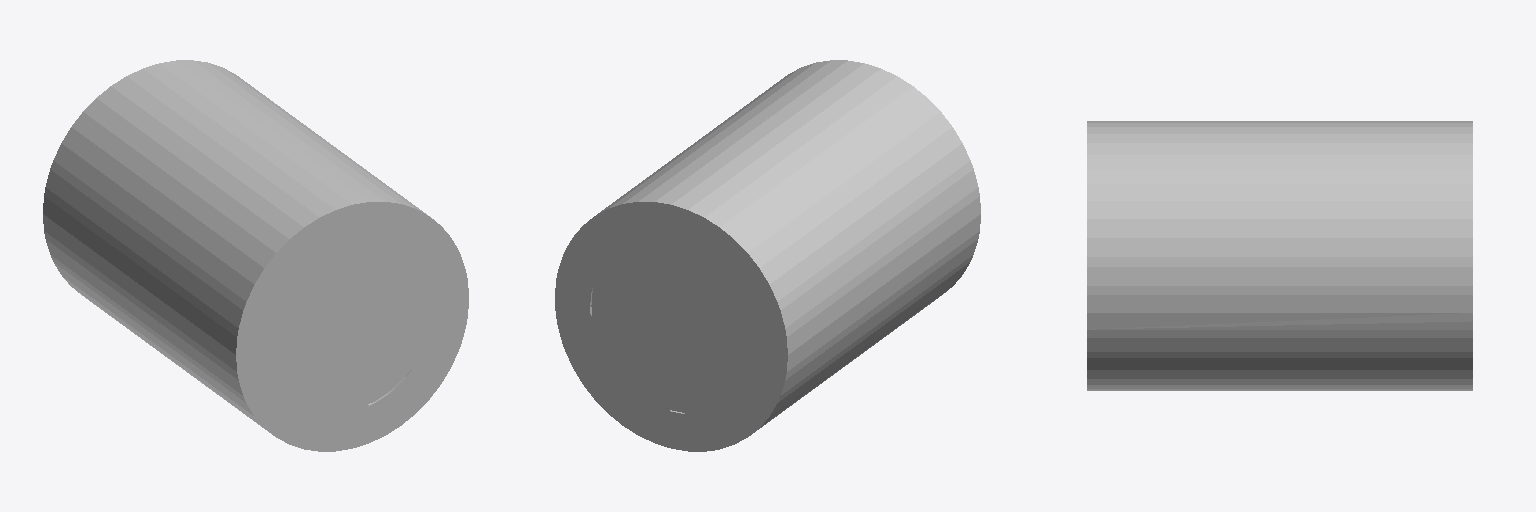
Rendered from TileCal.obj.
The picture shows the model from 3 angles: view 1: azimuth 30°, elevation 25°; view 2: azimuth 150°, elevation 25°; view 3: azimuth 270°, elevation 25°; orthographic projection.
Visible parts, largest first — view 1: Tile; view 2: Tile; view 3: Tile.
Boxes of the visible parts, x1,y1,x2,y2 form: Tile: [43, 60, 468, 451]; Tile: [555, 60, 980, 451]; Tile: [1087, 121, 1472, 390].
Size of the model in its own units: 7894 by 7894 by 11329.